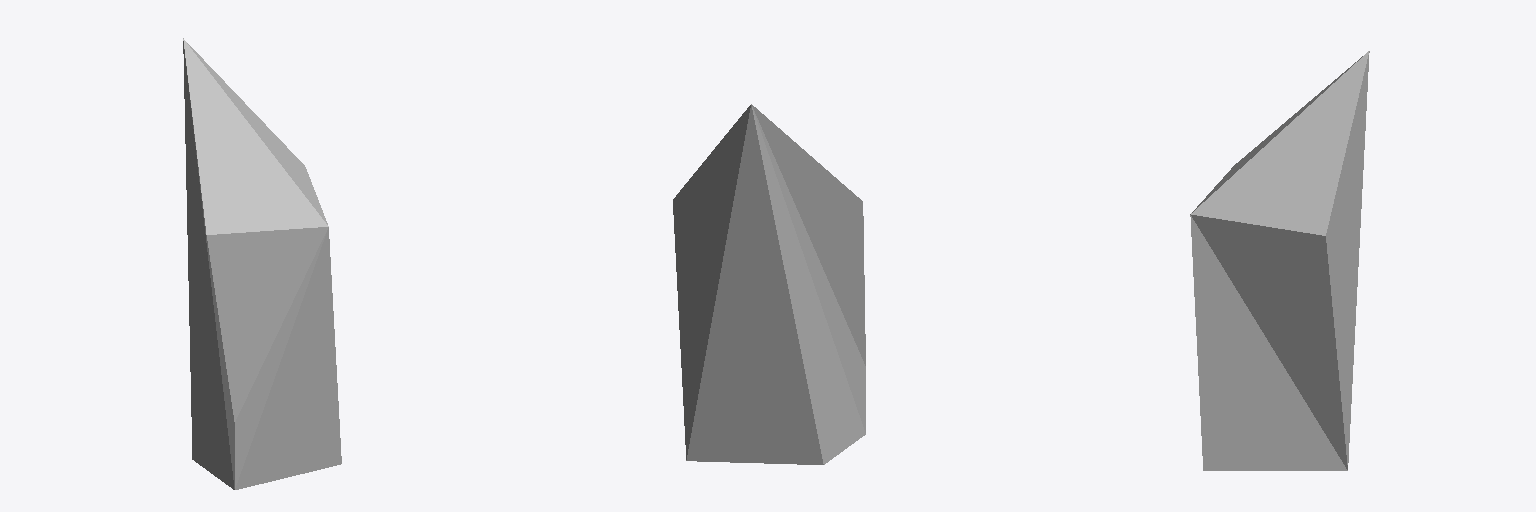
The model's file is iceberg.obj.
3 views of the same model, side by side, from view 1: azimuth 30°, elevation 25°; view 2: azimuth 150°, elevation 25°; view 3: azimuth 270°, elevation 25° (orthographic).
Visible parts, largest first — view 1: Mesh1 Model; view 2: Mesh1 Model; view 3: Mesh1 Model.
Boxes of the visible parts, <box> form: Mesh1 Model: <box>183,38,341,489</box>; Mesh1 Model: <box>673,104,865,464</box>; Mesh1 Model: <box>1190,51,1369,470</box>.
Bounding box in the file's own units: 3040 × 7703 × 3261.